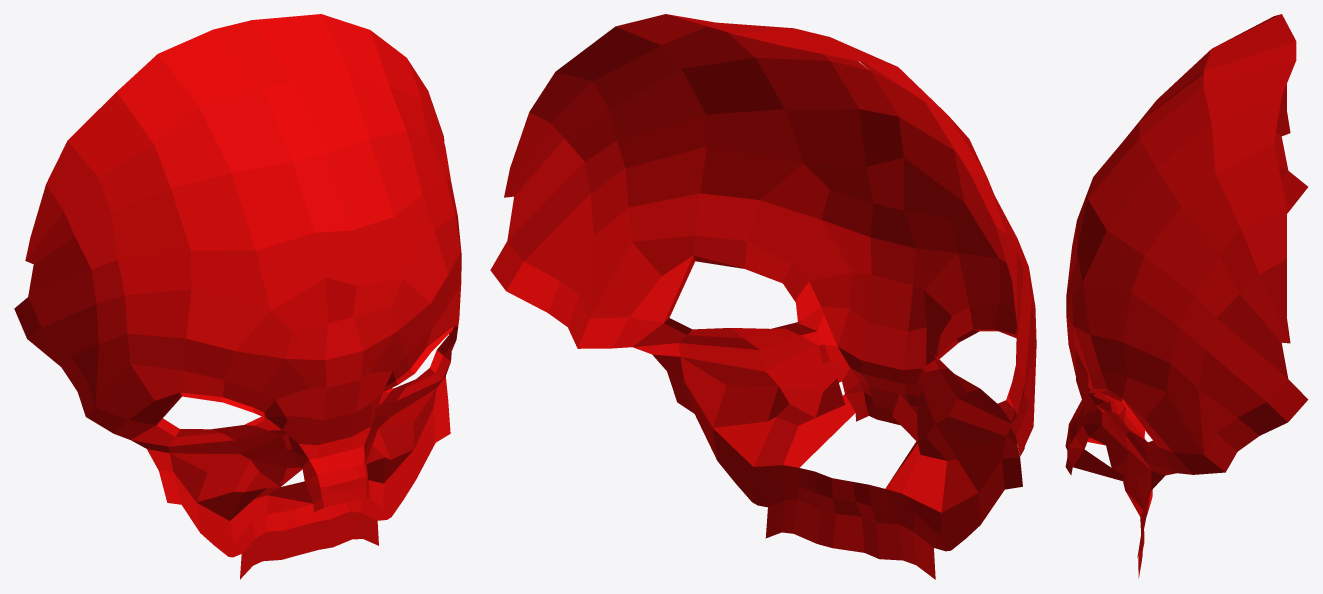
File: head red.fbx
The picture shows the model from 3 angles, left to right: view 1: azimuth 30°, elevation 25°; view 2: azimuth 150°, elevation 25°; view 3: azimuth 270°, elevation 25°; orthographic projection. The views are drawn at different scales.
Visible parts, largest first — view 1: pPlane3; view 2: pPlane3; view 3: pPlane3.
Boxes of the visible parts, left/top/right/bottom form: pPlane3: left=14, top=14, right=461, bottom=579; pPlane3: left=490, top=14, right=1036, bottom=579; pPlane3: left=1065, top=14, right=1308, bottom=578.
Bounding box in the file's own units: 0.6449 × 0.6989 × 0.3114.
